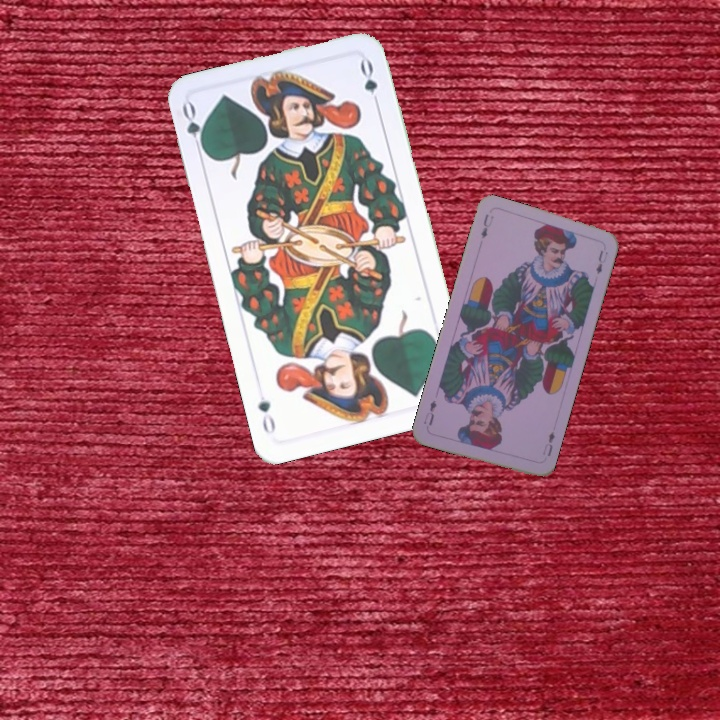EU: (476, 210, 496, 241), (538, 428, 557, 459)
GO: (178, 99, 209, 158)
